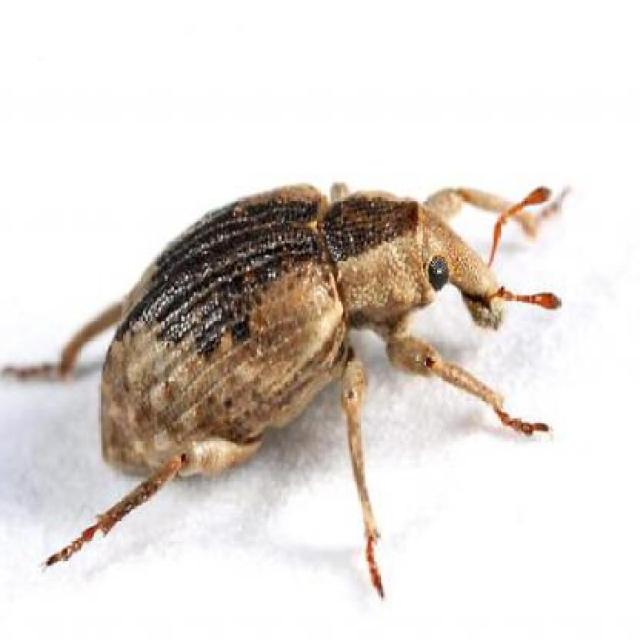rice-bug: (37, 180, 558, 568)
